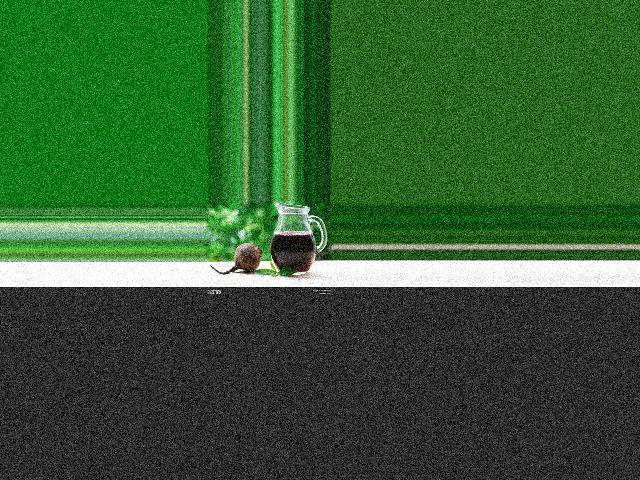beet: (210, 243, 262, 275)
